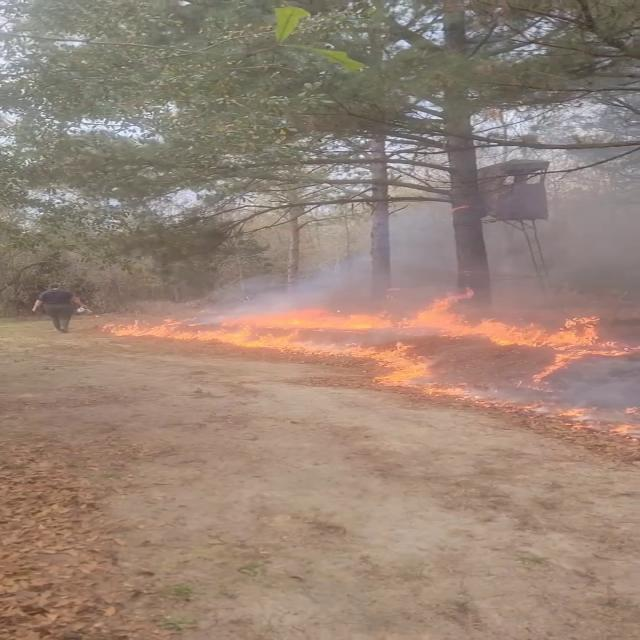Fire: (107, 288, 634, 388)
